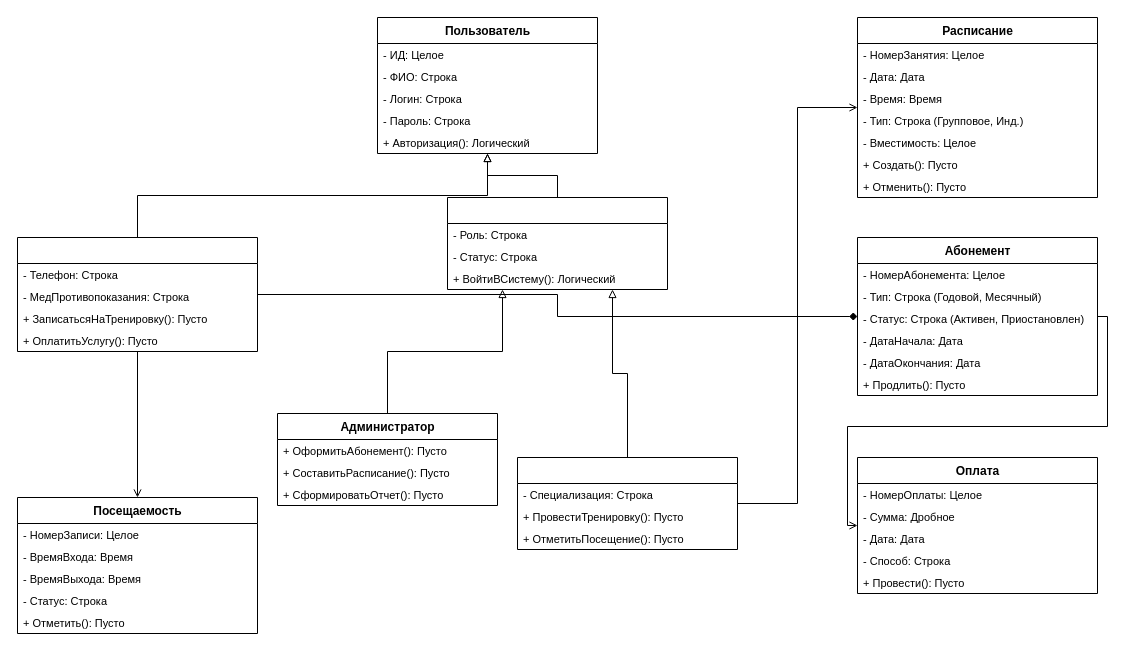
This 1133x651 diagram has some shape labels left out. Each missing label, with the box of its shape:
Клиент: (16, 236, 258, 352)
Сотрудник: (446, 196, 668, 290)
Тренер: (516, 456, 738, 550)
